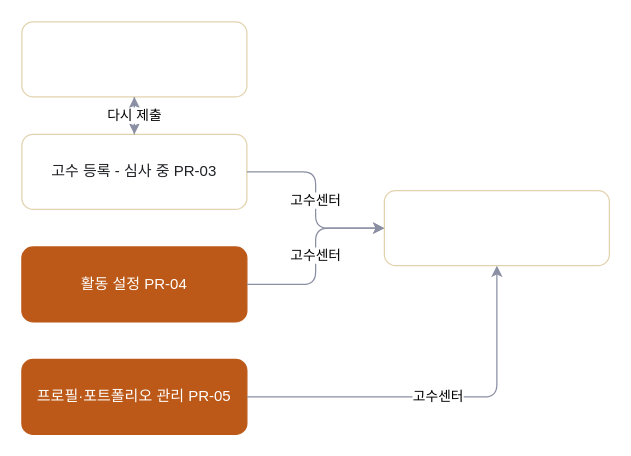
This 631x456 diagram has some shape labels left out. Each missing label, with the centre of its shape:
"고수 등록 신청 PR-02" belongs at point 134,59.
"고수센터 홈 PR-01" belongs at point 496,227.
